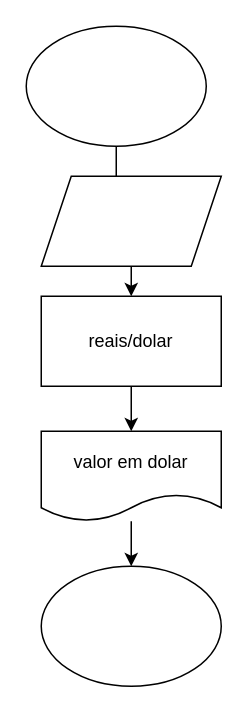
Some shapes in this 248 by 713 pixel diagram are drawn without their labels. Here are the shapes that lost their labels. From the top down, the centre of each, then its label:
At point 115,85: "inicio".
At point 130,220: "cotação dolar,valor em reais".
